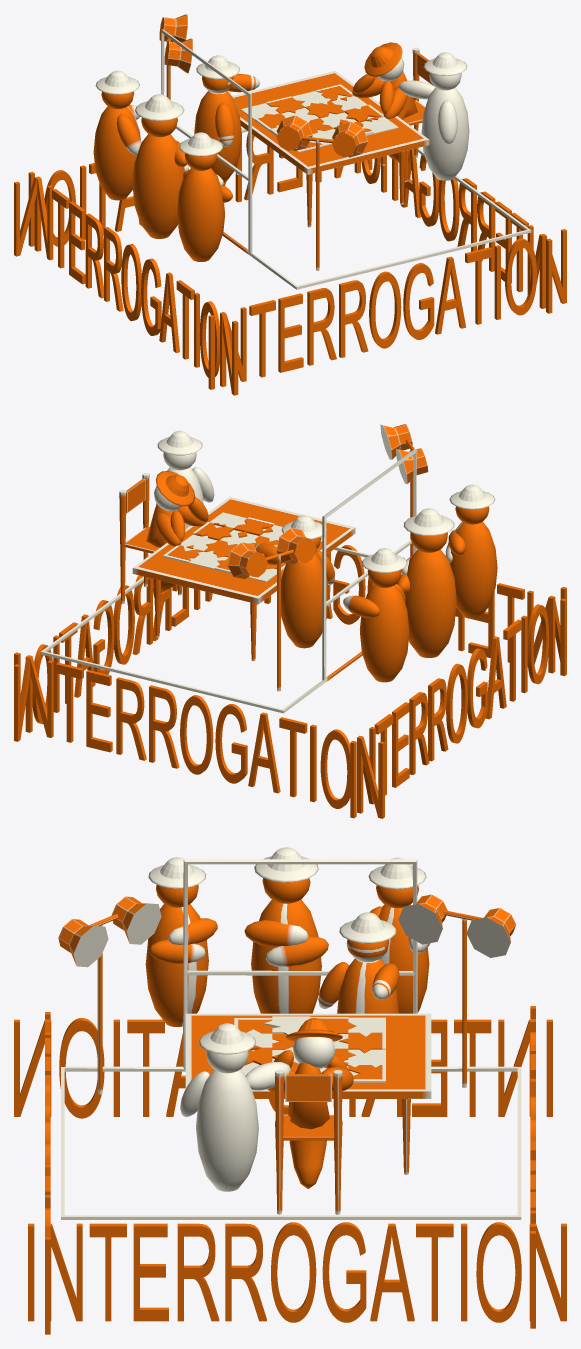
File: InterrogationIcon.DAE
3 views of the same model, one above another, from view 1: azimuth 30°, elevation 25°; view 2: azimuth 150°, elevation 25°; view 3: azimuth 270°, elevation 25° (orthographic). The views are drawn at different scales.
Visible parts, largest first — view 1: Text001; view 2: Text001, puzzle0014; view 3: Text001, puzzle002, puzzle001, puzzle003, puzzle004.
Part boxes in pixels (x1=…): Text001: x1=14, y1=14, x2=566, y2=395; Text001: x1=14, y1=424, x2=566, y2=818; puzzle0014: x1=233, y1=517, x2=274, y2=537; Text001: x1=14, y1=847, x2=566, y2=1334; puzzle002: x1=339, y1=1032, x2=385, y2=1053; puzzle001: x1=348, y1=1017, x2=385, y2=1036; puzzle003: x1=343, y1=1049, x2=385, y2=1067; puzzle004: x1=348, y1=1065, x2=385, y2=1082.
Bounding box in the file's own units: 2250 × 1384 × 2251.
